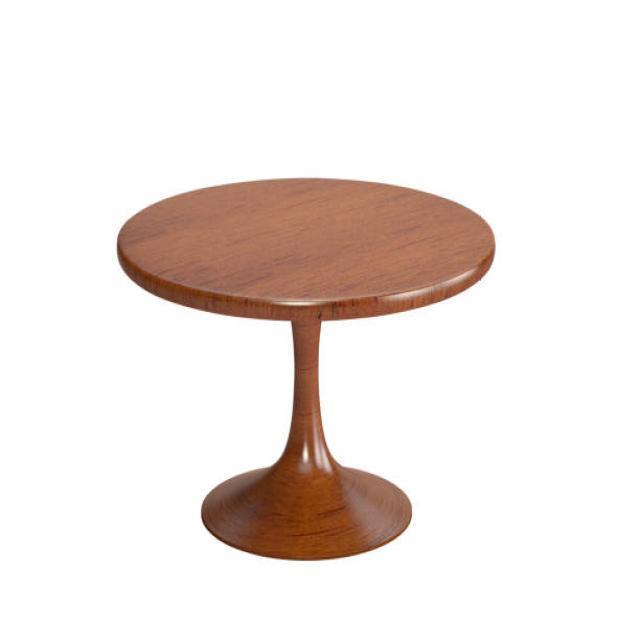table: (116, 176, 496, 561)
